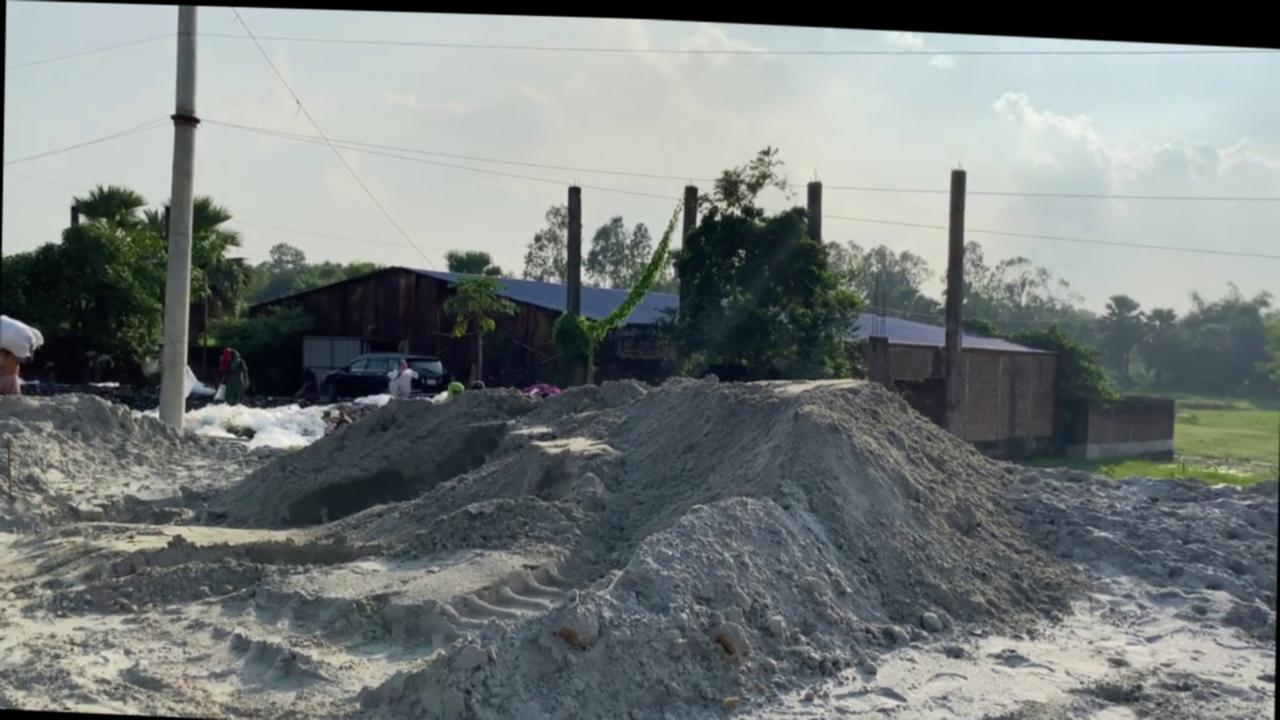Car: (317, 346, 453, 408)
Garbage: (0, 383, 1276, 720)
Pole: (156, 4, 200, 428), (942, 160, 967, 428), (562, 180, 584, 383), (678, 179, 698, 316)
Traffic-sign: (440, 267, 520, 383)
